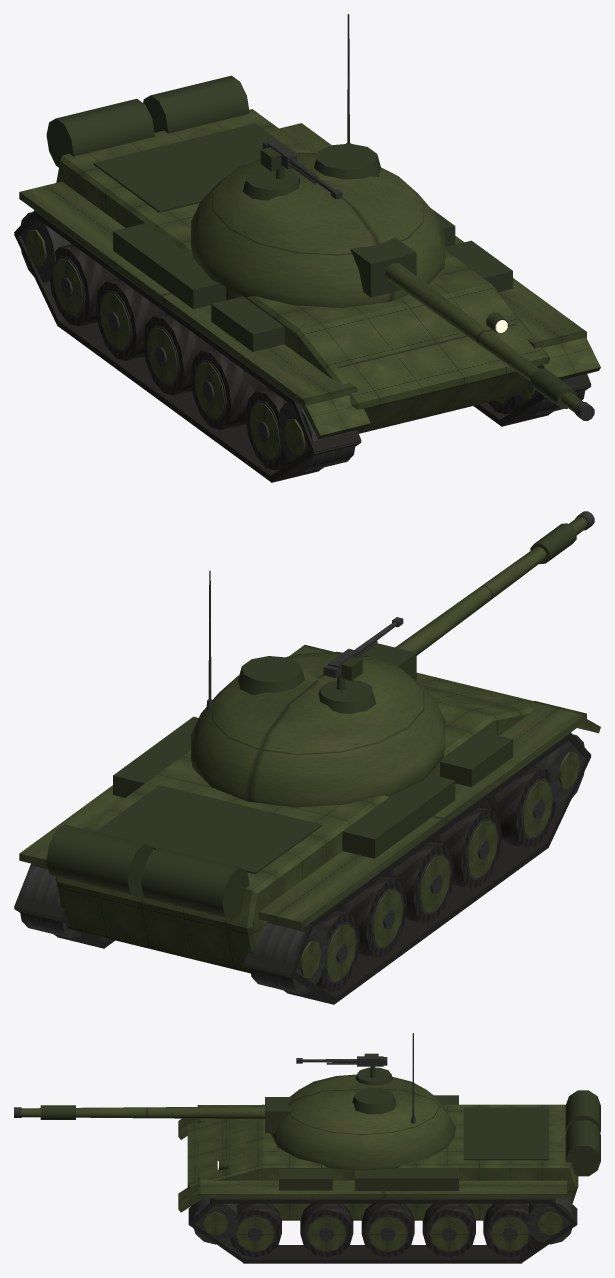
3 renders of one model, top to bottom at view 1: azimuth 30°, elevation 25°; view 2: azimuth 150°, elevation 25°; view 3: azimuth 270°, elevation 25°, orthographic. The views are drawn at different scales.
Parts seen in each view (by area): view 1: T54_55_MBT; view 2: T54_55_MBT; view 3: T54_55_MBT.
Part boxes in pixels (bbox=[...]): T54_55_MBT: bbox=[14, 14, 600, 482]; T54_55_MBT: bbox=[14, 511, 600, 1004]; T54_55_MBT: bbox=[14, 1033, 600, 1263].
Bounding box in the file's own units: 3.34 × 3.64 × 9.29.
6 materials, 3 textured.
